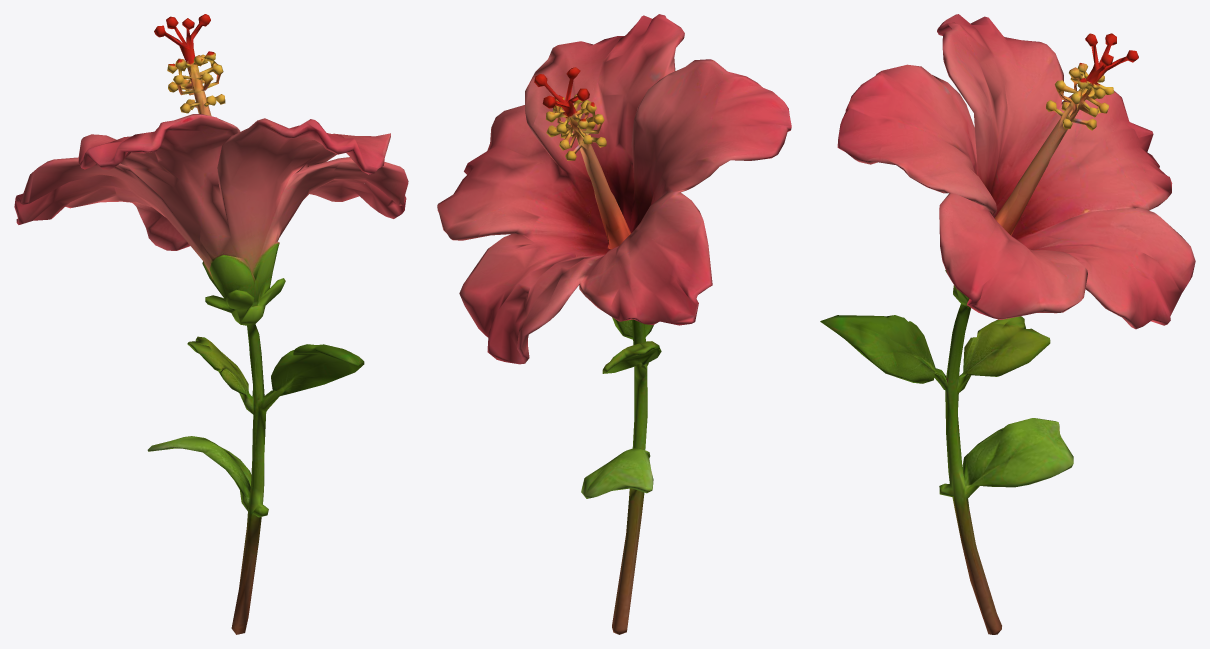
File: Hibscus.glb
The picture shows the model from 3 angles, left to right: view 1: azimuth 30°, elevation 25°; view 2: azimuth 150°, elevation 25°; view 3: azimuth 270°, elevation 25°; orthographic projection. The views are drawn at different scales.
Parts seen in each view (by area): view 1: tripo_node_aaff10ec-e33a-4a61-a0c0-29b79ee85e5a; view 2: tripo_node_aaff10ec-e33a-4a61-a0c0-29b79ee85e5a; view 3: tripo_node_aaff10ec-e33a-4a61-a0c0-29b79ee85e5a.
Boxes of the visible parts, x1=… form: tripo_node_aaff10ec-e33a-4a61-a0c0-29b79ee85e5a: x1=14, y1=14, x2=408, y2=634; tripo_node_aaff10ec-e33a-4a61-a0c0-29b79ee85e5a: x1=437, y1=14, x2=791, y2=634; tripo_node_aaff10ec-e33a-4a61-a0c0-29b79ee85e5a: x1=820, y1=14, x2=1195, y2=634.
Size of the model in its own units: 0.555 by 0.9797 by 0.5579.
Materials: 1 (1 with a texture image).
